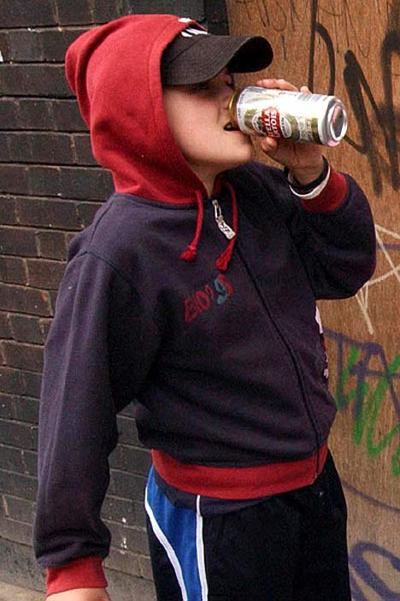person: (34, 12, 378, 601)
